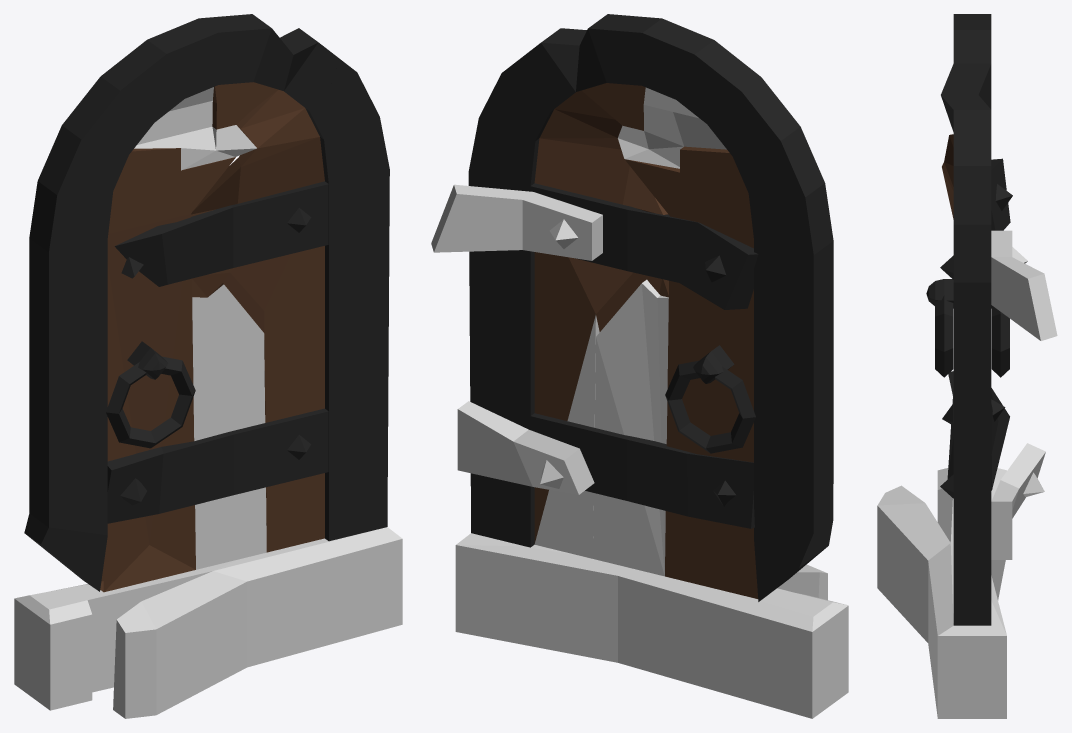
Rendered from Reinforced_SmallDoor_Pieces.fbx.
3 views of the same model, side by side, from view 1: azimuth 30°, elevation 25°; view 2: azimuth 150°, elevation 25°; view 3: azimuth 270°, elevation 25° (orthographic). The views are drawn at different scales.
Visible parts, largest first — view 1: Reinforced_SmallDoor_Piece_06, Reinforced_SmallDoor_Piece_03, Reinforced_SmallDoor_Piece_04, Reinforced_SmallDoor_Piece_05, Reinforced_SmallDoor_Piece_07, Reinforced_SmallDoor_Piece_08; view 2: Reinforced_SmallDoor_Piece_06, Reinforced_SmallDoor_Piece_03, Reinforced_SmallDoor_Piece_04, Reinforced_SmallDoor_Piece_05, Reinforced_SmallDoor_Piece_01, Reinforced_SmallDoor_Piece_02, polySurface3716, Reinforced_SmallDoor_Piece_07, Reinforced_SmallDoor_Piece_08; view 3: Reinforced_SmallDoor_Piece_03, Reinforced_SmallDoor_Piece_04, Reinforced_SmallDoor_Piece_06, Reinforced_SmallDoor_Piece_01, Reinforced_SmallDoor_Piece_02.
Boxes of the visible parts, x1=… form: Reinforced_SmallDoor_Piece_06: x1=24, y1=14, x2=339, y2=592; Reinforced_SmallDoor_Piece_03: x1=107, y1=59, x2=389, y2=552; Reinforced_SmallDoor_Piece_04: x1=14, y1=527, x2=402, y2=718; Reinforced_SmallDoor_Piece_05: x1=192, y1=284, x2=266, y2=569; Reinforced_SmallDoor_Piece_07: x1=134, y1=87, x2=215, y2=170; Reinforced_SmallDoor_Piece_08: x1=183, y1=125, x2=256, y2=169; Reinforced_SmallDoor_Piece_06: x1=530, y1=14, x2=833, y2=601; Reinforced_SmallDoor_Piece_03: x1=468, y1=51, x2=758, y2=547; Reinforced_SmallDoor_Piece_04: x1=455, y1=533, x2=848, y2=718; Reinforced_SmallDoor_Piece_05: x1=593, y1=279, x2=668, y2=576; Reinforced_SmallDoor_Piece_01: x1=431, y1=184, x2=602, y2=260; Reinforced_SmallDoor_Piece_02: x1=457, y1=401, x2=594, y2=494; polySurface3716: x1=534, y1=315, x2=599, y2=558; Reinforced_SmallDoor_Piece_07: x1=643, y1=87, x2=726, y2=166; Reinforced_SmallDoor_Piece_08: x1=618, y1=125, x2=679, y2=168; Reinforced_SmallDoor_Piece_03: x1=940, y1=125, x2=1012, y2=625; Reinforced_SmallDoor_Piece_04: x1=877, y1=468, x2=1006, y2=718; Reinforced_SmallDoor_Piece_06: x1=926, y1=14, x2=1009, y2=490; Reinforced_SmallDoor_Piece_01: x1=991, y1=230, x2=1057, y2=340; Reinforced_SmallDoor_Piece_02: x1=991, y1=443, x2=1045, y2=559.
Bounding box in the file's own units: 2.03 × 3.39 × 0.9125.
